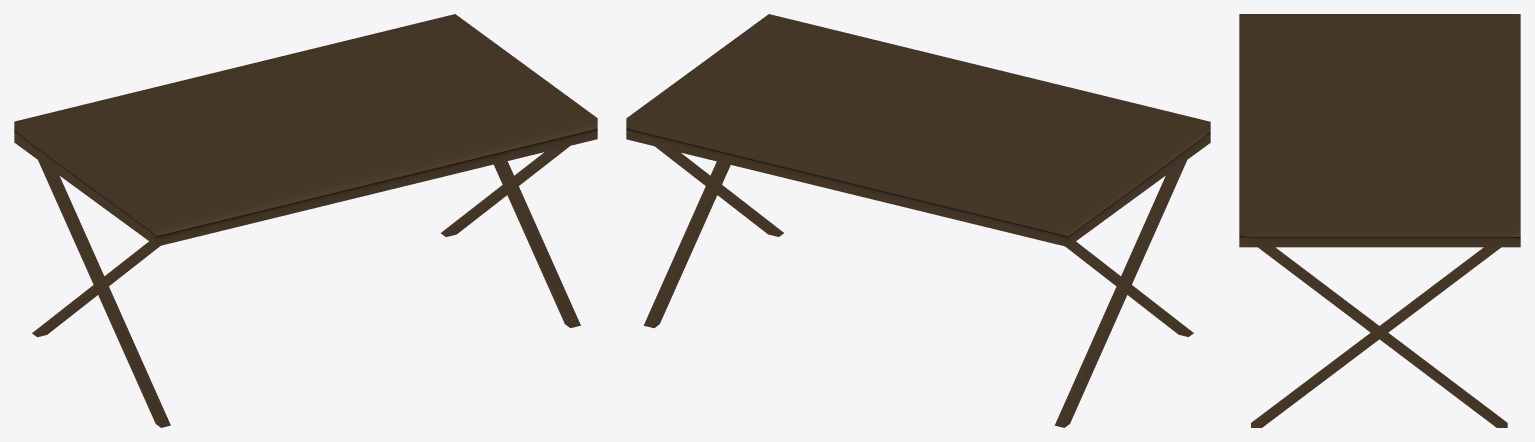
The model's file is table.fbx.
3 views of the same model, side by side, from view 1: azimuth 30°, elevation 25°; view 2: azimuth 150°, elevation 25°; view 3: azimuth 270°, elevation 25° (orthographic).
Visible parts, largest first — view 1: Cube; view 2: Cube; view 3: Cube.
Part boxes in pixels (x1,y1,x2,y2): Cube: [14, 14, 597, 427]; Cube: [626, 14, 1210, 427]; Cube: [1239, 14, 1520, 427].
Bounding box in the file's own units: 1.4 × 0.6344 × 0.7827.
